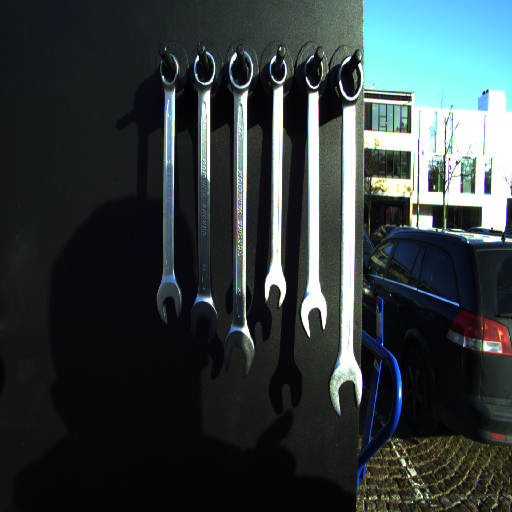bottom: (329, 363, 364, 417), (188, 300, 220, 346), (223, 331, 255, 376), (299, 295, 329, 339), (154, 285, 184, 324), (263, 271, 285, 309)
top: (337, 52, 364, 108), (226, 49, 254, 96), (192, 50, 218, 92), (157, 52, 183, 91), (302, 53, 325, 95), (267, 54, 289, 91)
